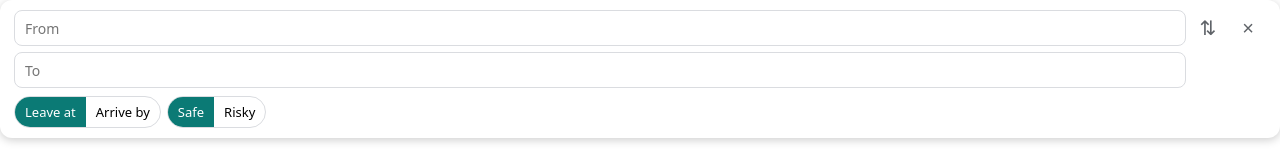
it: TripSearch › lists My location only for From, then Choose on map
This screenshot has width=1280, height=161.
Click the field labelled "From".
click(600, 28)  # box [14, 10, 1186, 46]
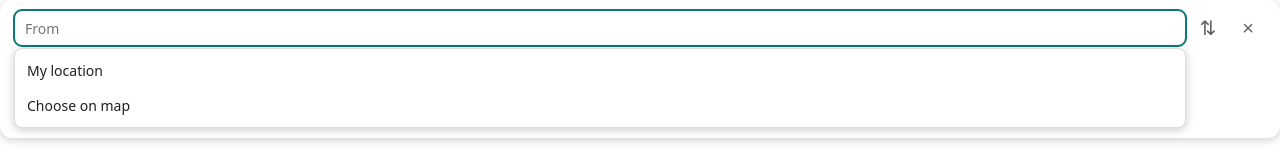
Now the options read "My location", "Choose on map", in this order, box [27, 61, 103, 80]; [27, 96, 130, 115]
Click the field labelled "To".
click(600, 70)  # box [14, 52, 1186, 88]
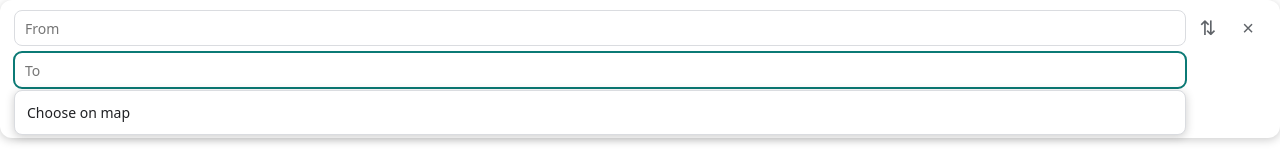
Now the options read "Choose on map", in this order, box [27, 103, 130, 122]
